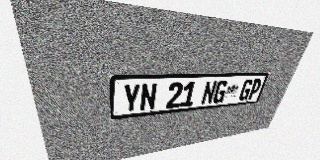1: (180, 81, 197, 107)
2: (166, 82, 184, 109)
G: (212, 80, 229, 104), (238, 79, 254, 101)
N: (139, 83, 157, 111), (200, 80, 218, 105)
P: (247, 79, 263, 100)
Y: (122, 83, 141, 113)
